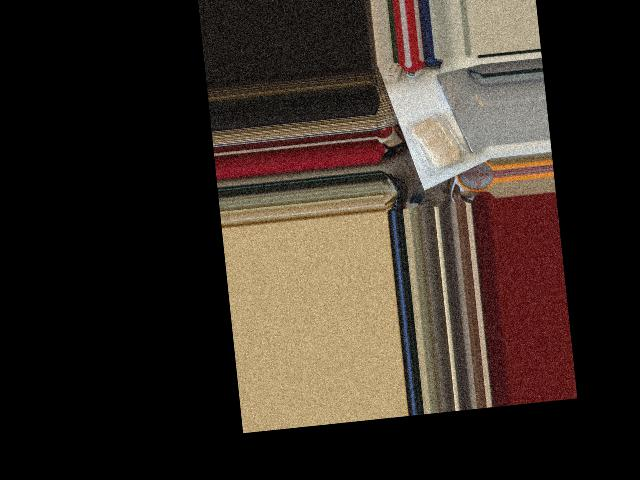cheese: (403, 106, 469, 183)
